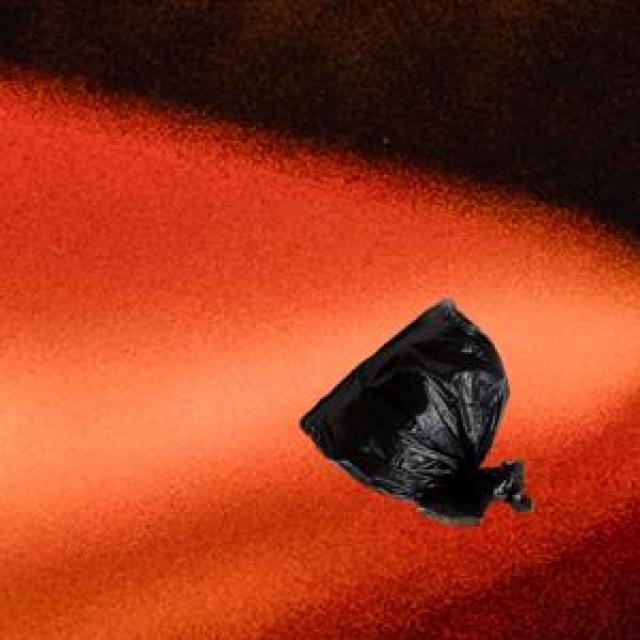Garbage_Bag: (298, 295, 530, 524)
